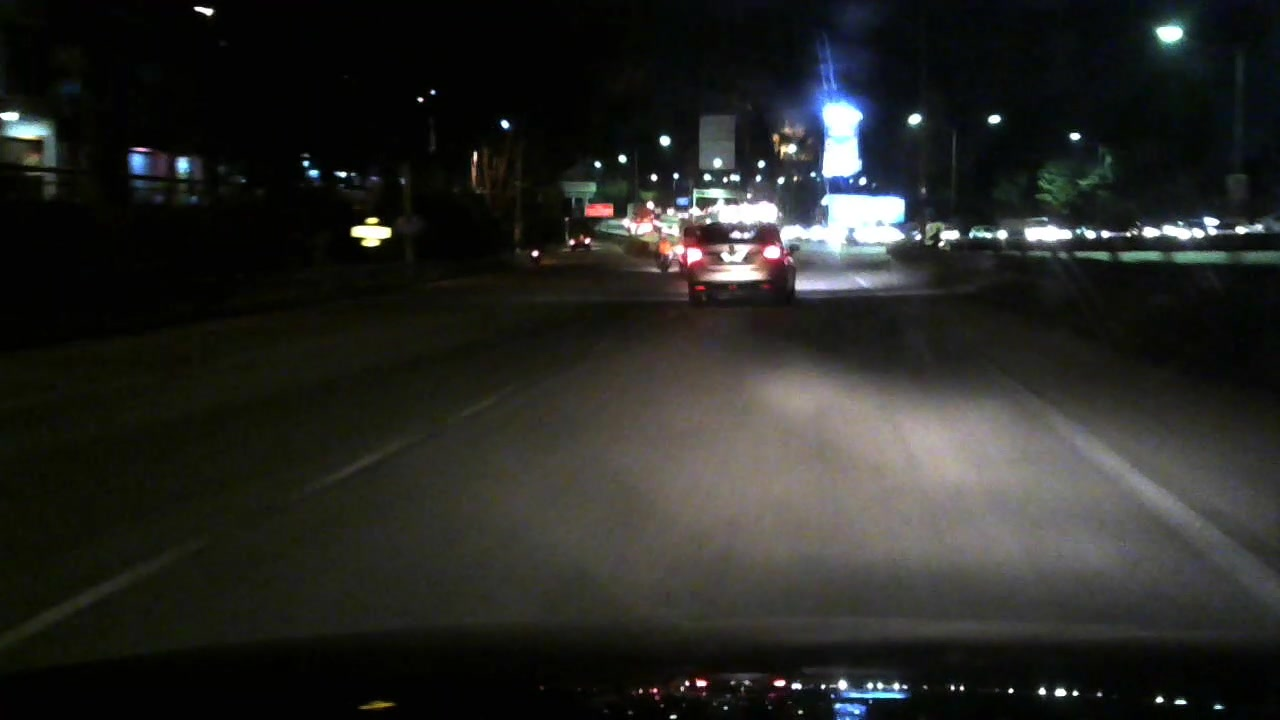Car: (677, 206, 811, 316), (560, 226, 595, 259)
